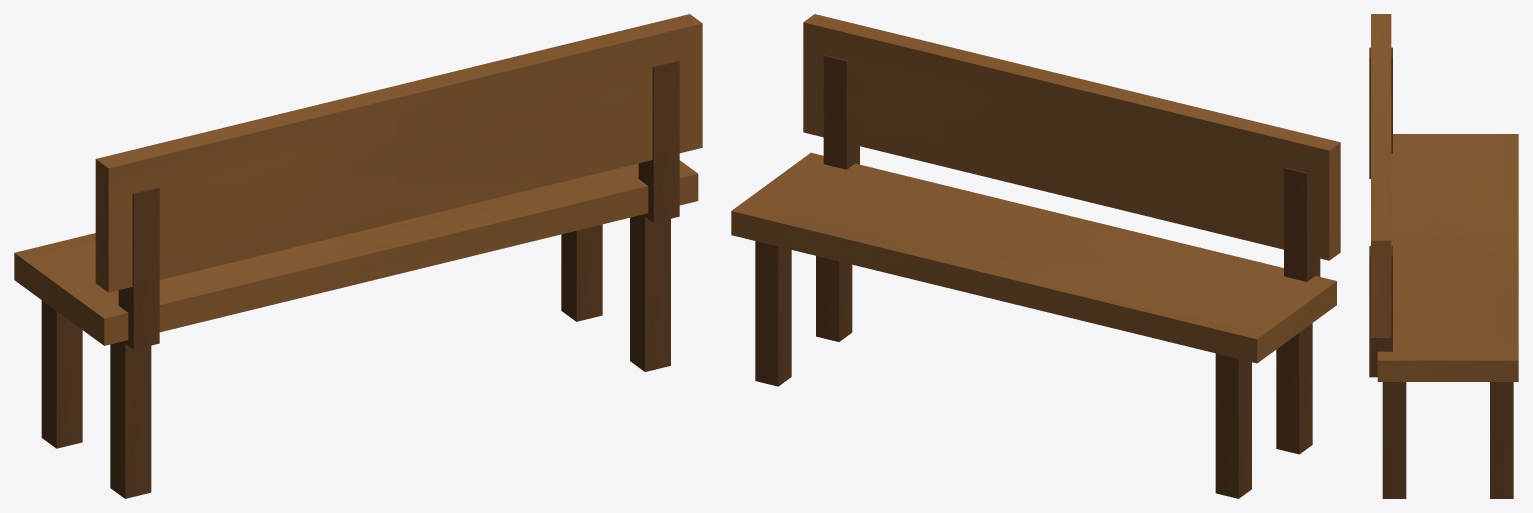
File: env_baku_bench.glb
3 views of the same model, side by side, from view 1: azimuth 30°, elevation 25°; view 2: azimuth 150°, elevation 25°; view 3: azimuth 270°, elevation 25° (orthographic). The views are drawn at different scales.
Parts seen in each view (by area): view 1: env_baku_bench; view 2: env_baku_bench; view 3: env_baku_bench.
Boxes of the visible parts, box(x1,y1,x2,y2) form: env_baku_bench: box(14, 14, 702, 498); env_baku_bench: box(731, 14, 1340, 498); env_baku_bench: box(1369, 14, 1518, 498).
Bounding box in the file's own units: 1.6 × 0.88 × 0.445.
1 material, 1 textured.
